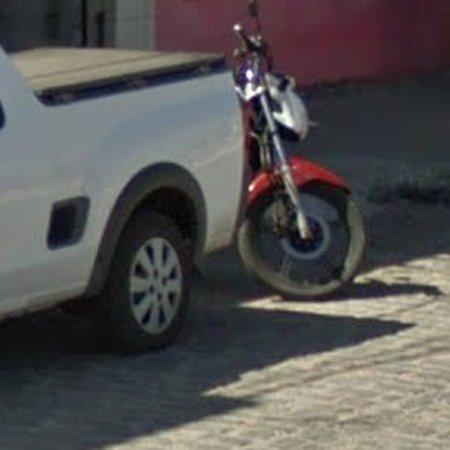motorcycles: (227, 0, 365, 299)
